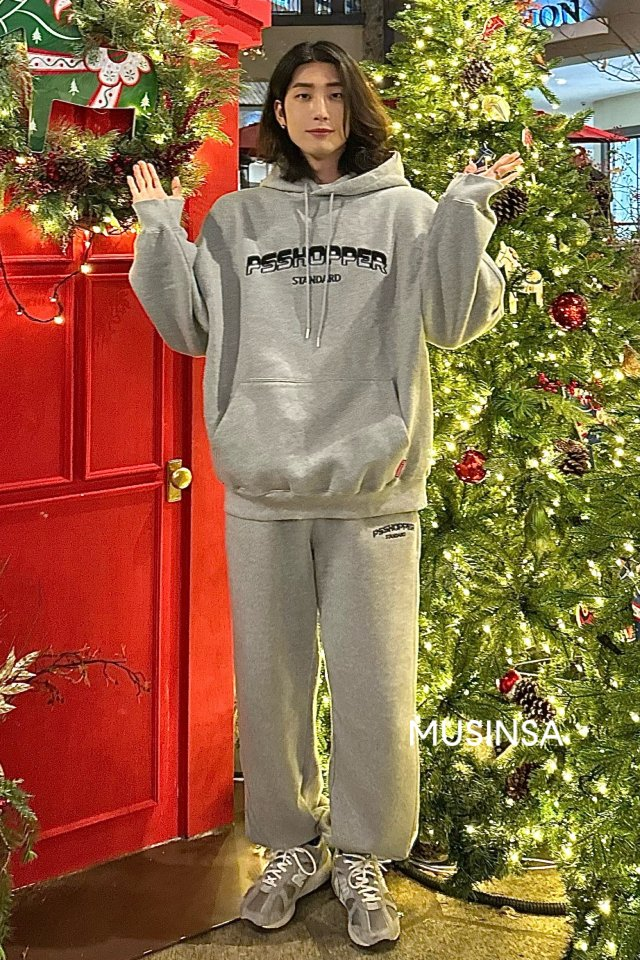Hoodie: (118, 145, 494, 510)
Shoes: (230, 839, 418, 949)
Training pants: (220, 506, 427, 858)
